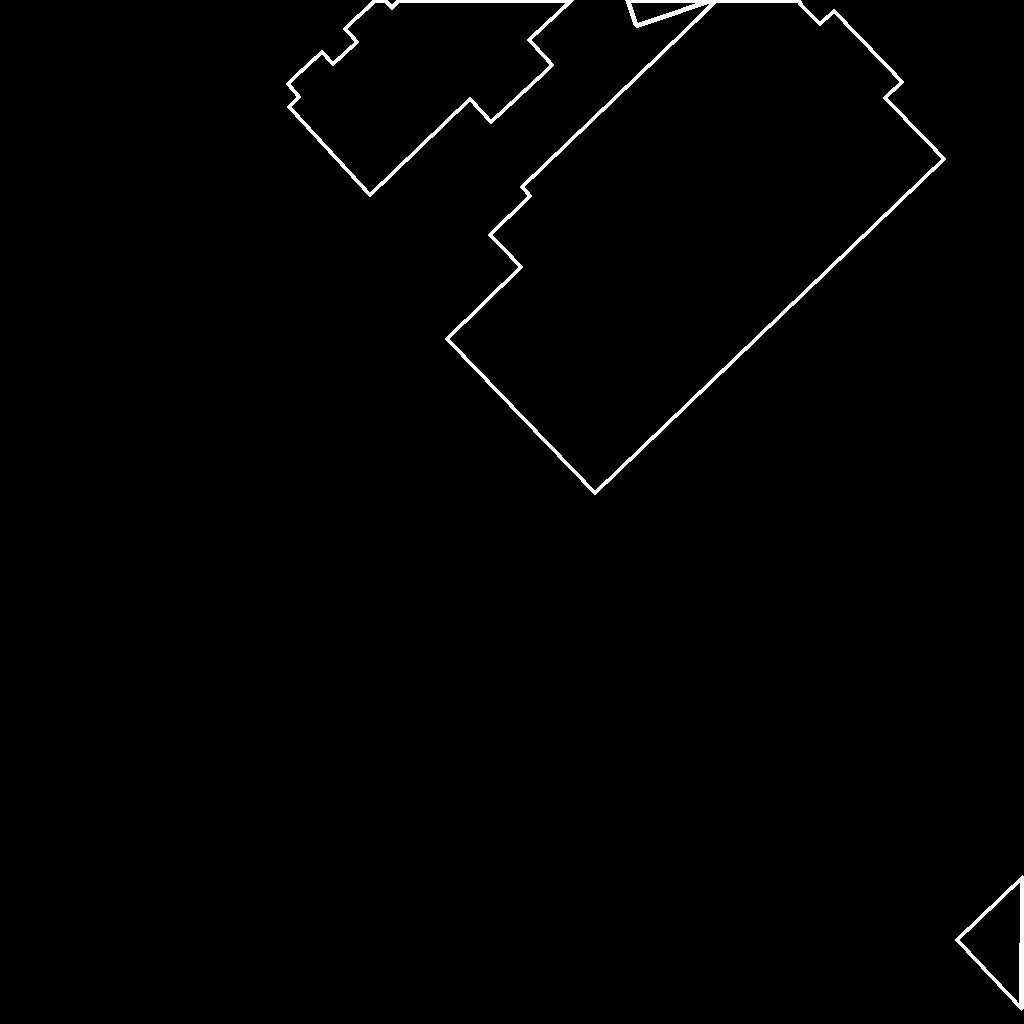building: (447, 0, 945, 494), (288, 0, 573, 196), (957, 877, 1024, 1010), (627, 0, 715, 27)
